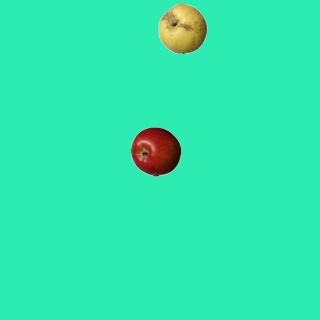Apple Braeburn: (130, 126, 180, 176)
Apple Golden 1: (157, 3, 207, 53)
